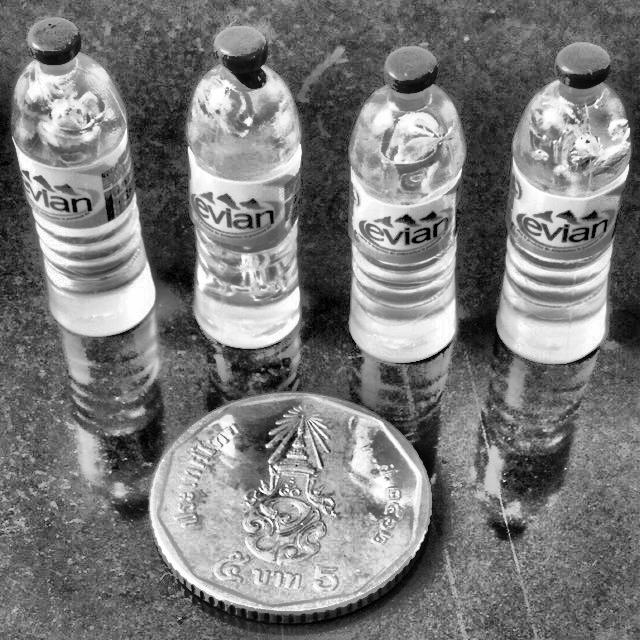waterbottle: (1, 10, 162, 343), (490, 30, 638, 373), (336, 31, 477, 371), (174, 19, 314, 354)
